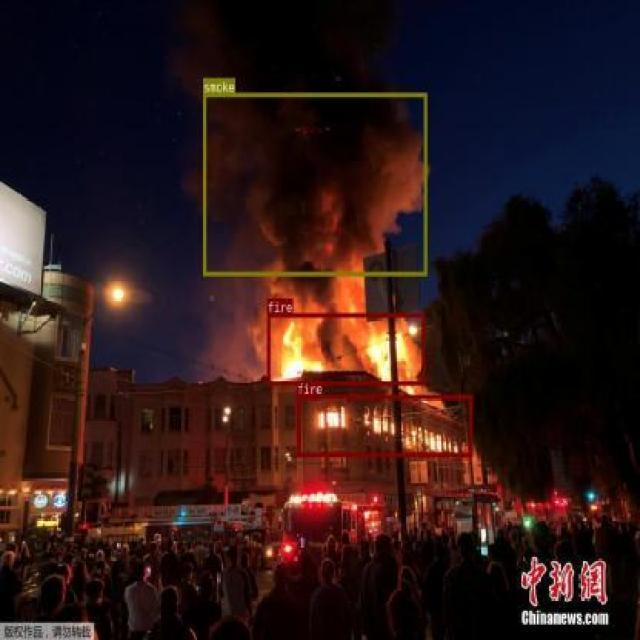Fire: (266, 312, 425, 385), (296, 394, 472, 456)
Smoke: (202, 92, 427, 276)
